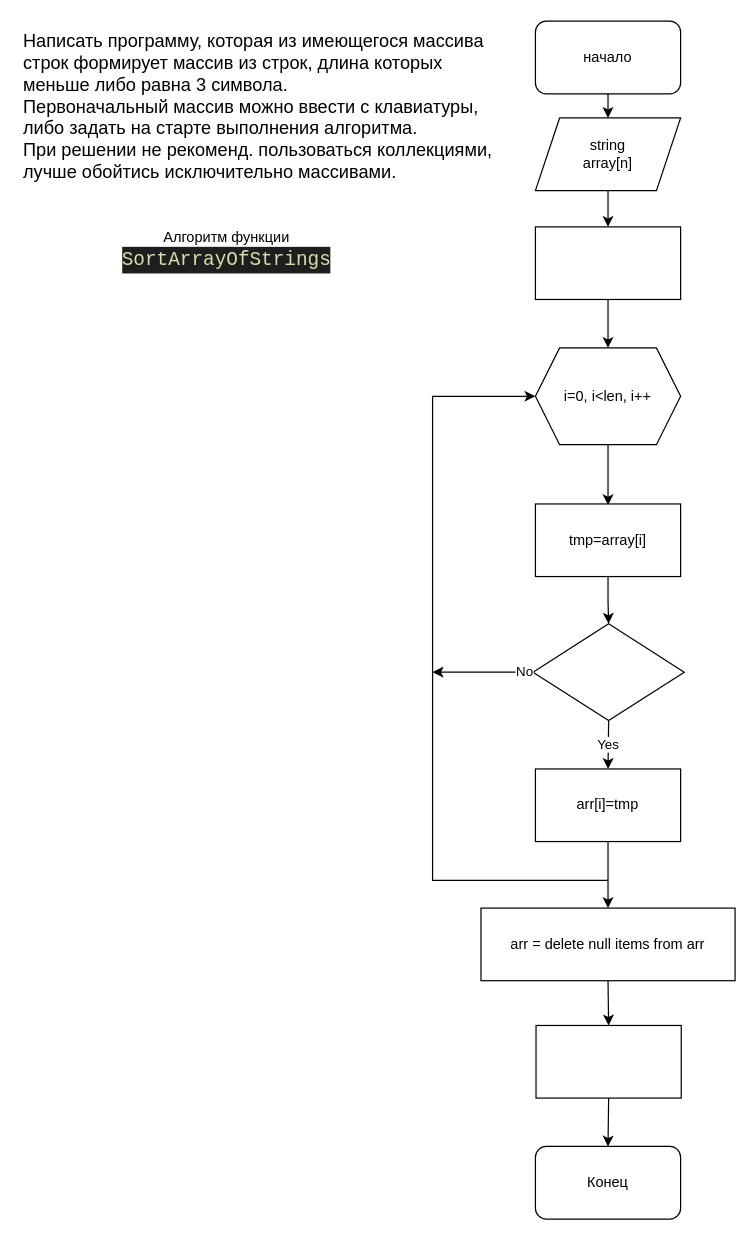
The diagram is 756 pixels wide and 1240 high, and some of its shapes have lost their labels. Each missing label, with the box of its shape:
int len = array.Length; new string arr[len]; string tmp;: (534, 226, 681, 299)
return arr: (535, 1024, 681, 1098)
tmp.Length<=3: (532, 623, 684, 721)
